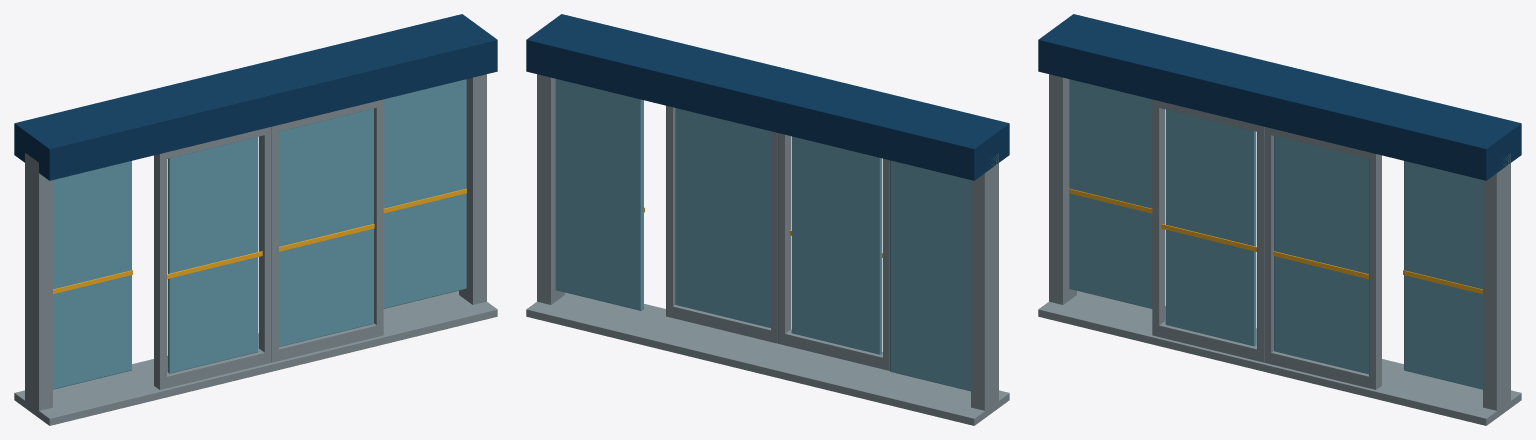
The model's file is edited.glb.
3 views of the same model, side by side, from view 1: azimuth 30°, elevation 25°; view 2: azimuth 150°, elevation 25°; view 3: azimuth 330°, elevation 25° (orthographic).
Parts seen in each view (by area): view 1: HEADER_Service, DOOR_Glass.001, DOOR_Glass, FIXED_Glass.001, FIXED_Glass, TRACK_Threshold, FRAME_Post, FRAME_Post.001, DOOR_Stile, DOOR_Stile.001, DOOR_Stile.003, DOOR_Stile.002 (+7 smaller); view 2: HEADER_Service, DOOR_Glass.001, FIXED_Glass.001, DOOR_Glass, FIXED_Glass, TRACK_Threshold, FRAME_Post, FRAME_Post.001, DOOR_Stile.001, DOOR_Stile.003, DOOR_Rail, DOOR_Rail.002 (+2 smaller); view 3: HEADER_Service, DOOR_Glass.001, DOOR_Glass, FIXED_Glass, FIXED_Glass.001, TRACK_Threshold, FRAME_Post.001, FRAME_Post, DOOR_Stile.003, DOOR_Stile, DOOR_Stile.002, DOOR_Stile.001 (+7 smaller).
Boxes of the visible parts, box(x1,y1,x2,y2) form: HEADER_Service: box(14, 14, 497, 180); DOOR_Glass.001: box(279, 108, 373, 346); DOOR_Glass: box(167, 137, 258, 373); FIXED_Glass.001: box(383, 79, 466, 308); FIXED_Glass: box(53, 161, 131, 389); TRACK_Threshold: box(14, 290, 497, 425); FRAME_Post: box(25, 153, 52, 417); FRAME_Post.001: box(459, 74, 486, 304); DOOR_Stile: box(154, 154, 166, 389); DOOR_Stile.001: box(259, 127, 271, 364); DOOR_Stile.003: box(374, 100, 383, 336); DOOR_Stile.002: box(271, 131, 278, 350); HEADER_Service: box(526, 14, 1009, 180); DOOR_Glass.001: box(675, 108, 770, 327); FIXED_Glass.001: box(555, 79, 643, 310); DOOR_Glass: box(791, 136, 882, 354); FIXED_Glass: box(890, 160, 970, 391); TRACK_Threshold: box(526, 292, 1009, 425); FRAME_Post: box(971, 153, 998, 410); FRAME_Post.001: box(537, 74, 564, 304); DOOR_Stile.001: box(778, 133, 790, 345); DOOR_Stile.003: box(666, 105, 675, 317); DOOR_Rail: box(778, 329, 889, 370); DOOR_Rail.002: box(666, 304, 777, 343); HEADER_Service: box(1038, 14, 1521, 180); DOOR_Glass.001: box(1274, 136, 1368, 374); DOOR_Glass: box(1165, 109, 1256, 346); FIXED_Glass: box(1069, 79, 1152, 308); FIXED_Glass.001: box(1404, 161, 1482, 389); TRACK_Threshold: box(1038, 290, 1521, 425); FRAME_Post.001: box(1483, 153, 1510, 410); FRAME_Post: box(1049, 74, 1076, 304); DOOR_Stile.003: box(1369, 153, 1381, 389); DOOR_Stile: box(1152, 100, 1164, 336); DOOR_Stile.002: box(1264, 127, 1273, 364); DOOR_Stile.001: box(1257, 131, 1264, 350).
Bounding box in the file's own units: 4.4 × 2.6 × 0.6.
